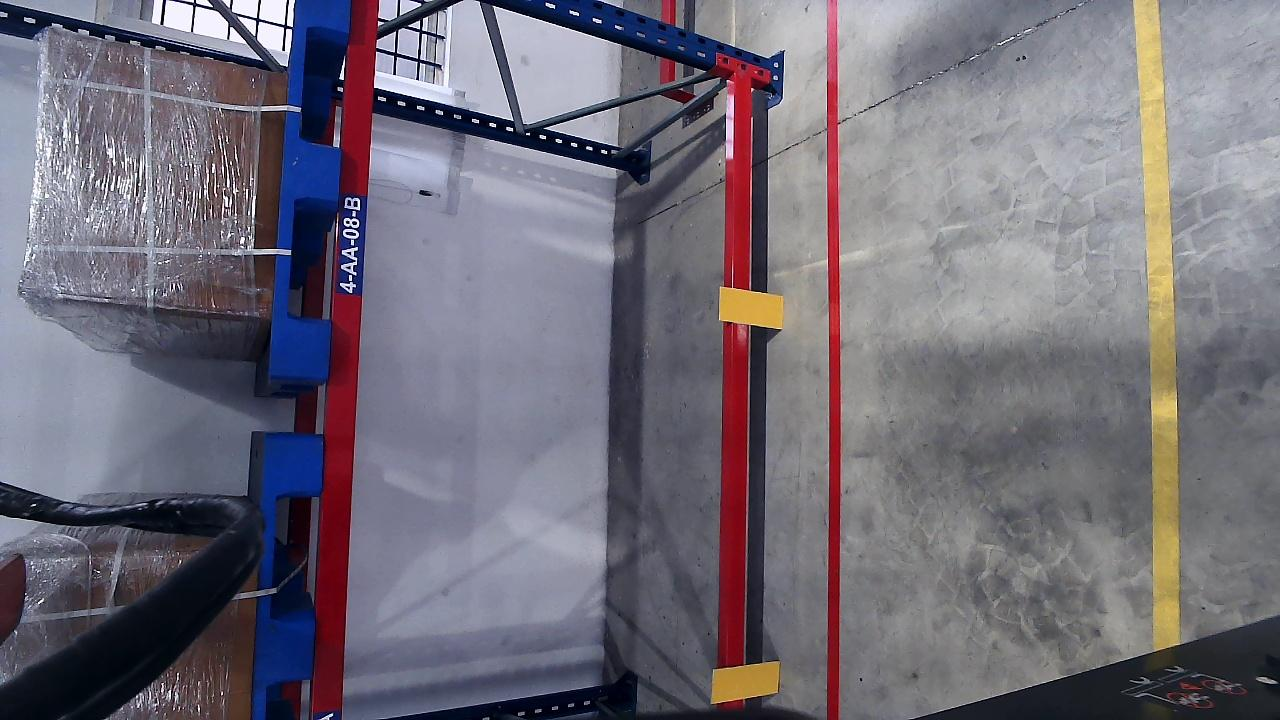h_rack: (312, 62, 377, 681), (725, 77, 758, 613)
orange_strip: (711, 660, 780, 702), (719, 285, 784, 328)
red_line: (822, 83, 844, 702)
small_pallet: (268, 0, 351, 377), (252, 442, 322, 720)
yellow_line: (1135, 0, 1181, 598)
